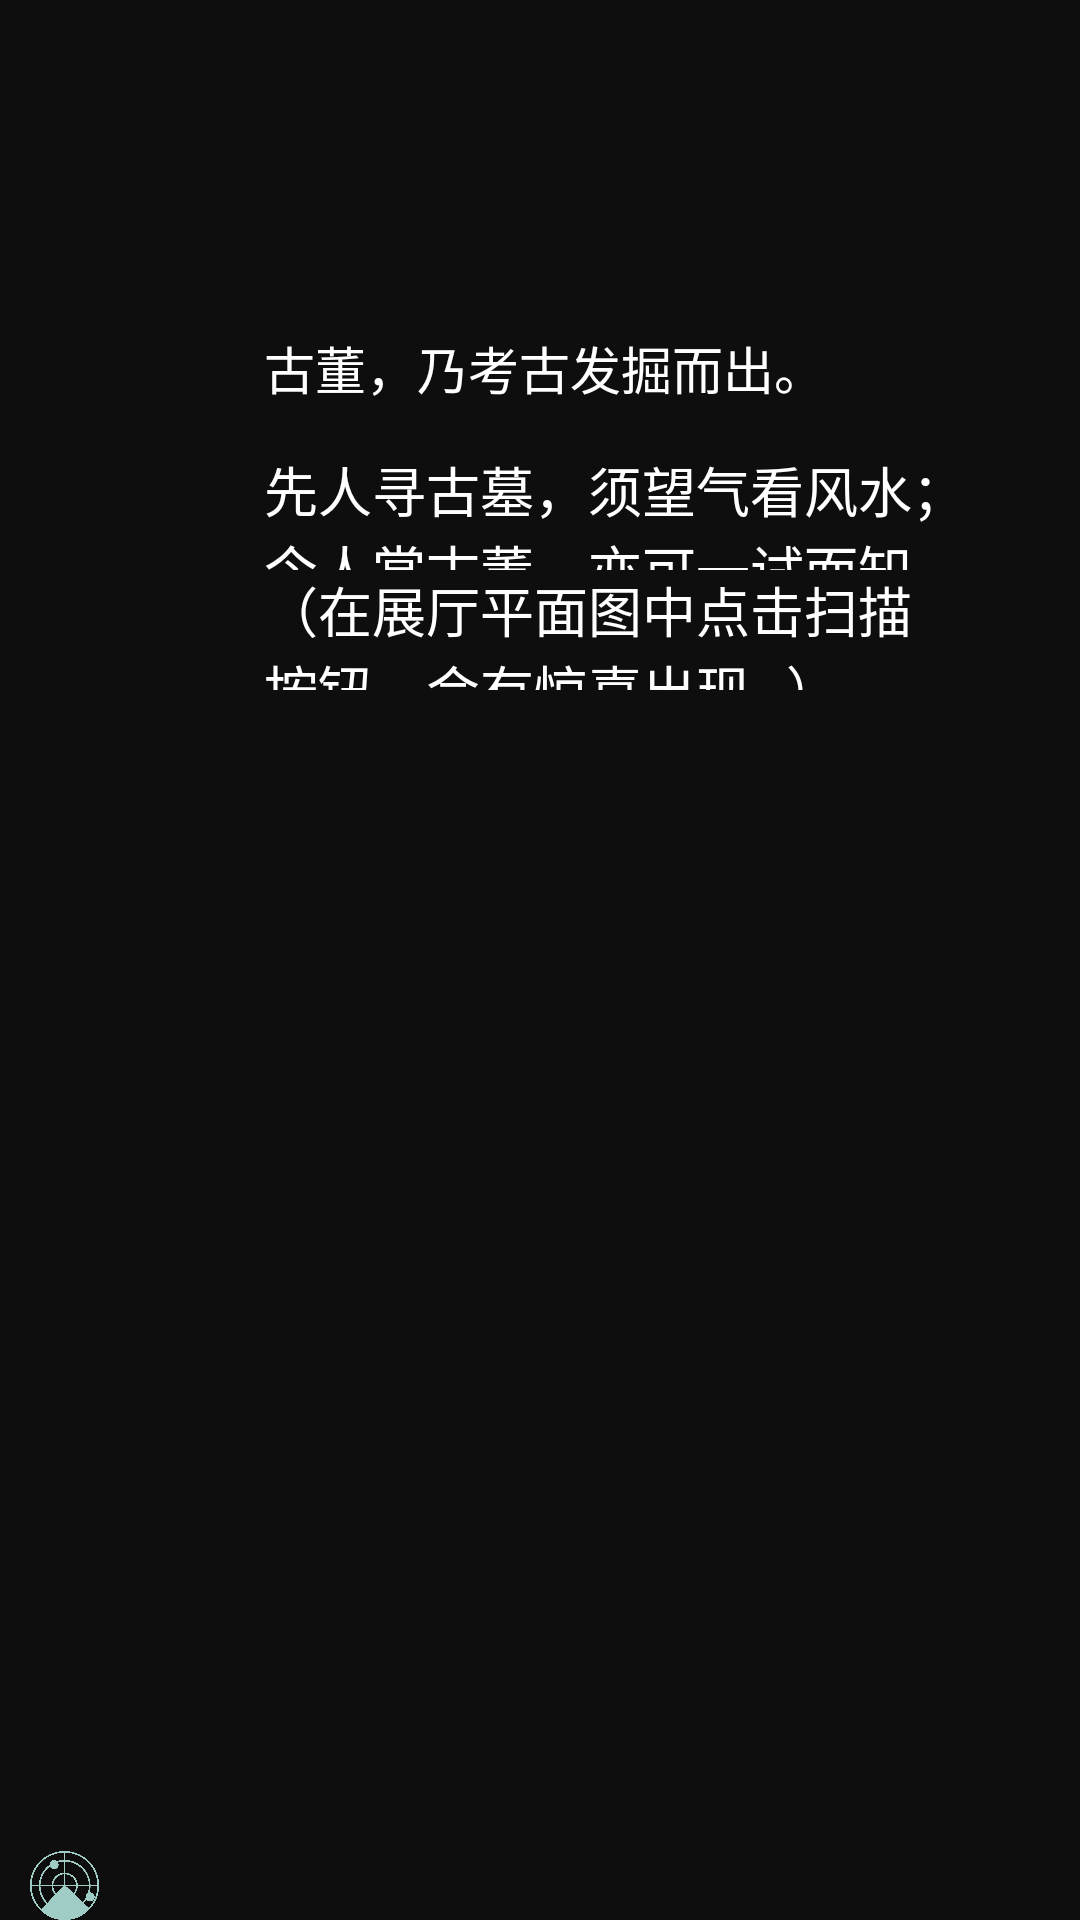

Where icons sit on this 1080x1920 app screen, as (x1=x1, y1=y1, x2=x2, y2=y2):
pic scan: (x1=30, y1=1851, x2=99, y2=1920)
